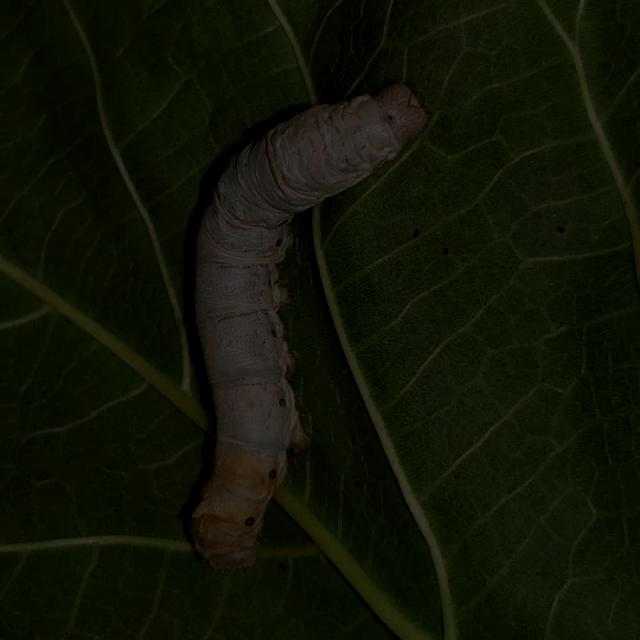Grasserie: (160, 54, 462, 592)
